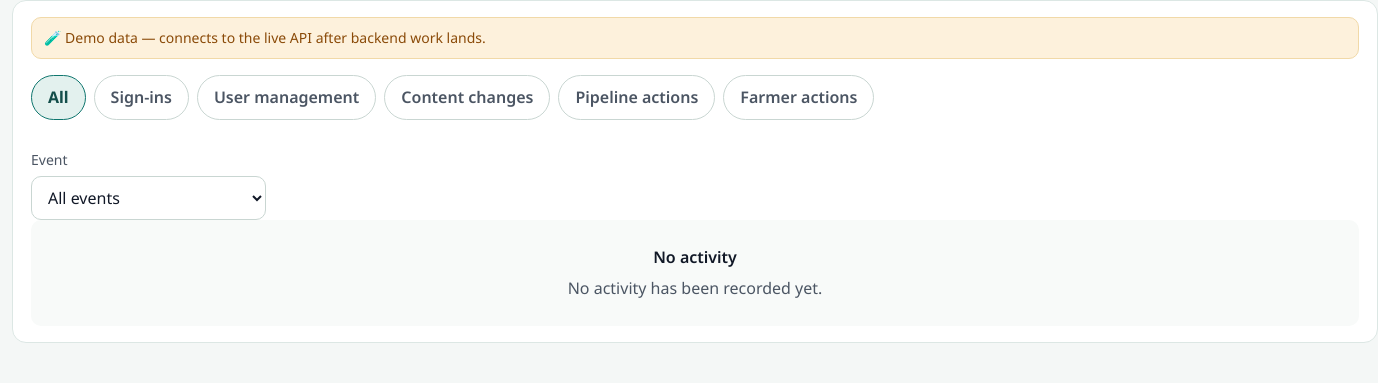
System log — group sub-tabs › distinguishes "nothing recorded" from "nothing matches this filter"
Check: the text "No activity has been recorded yet." is shown, box [568,277,822,299]
Click the tab "Content changes". click: coordinates (467, 97)
box: [384,75,550,120]
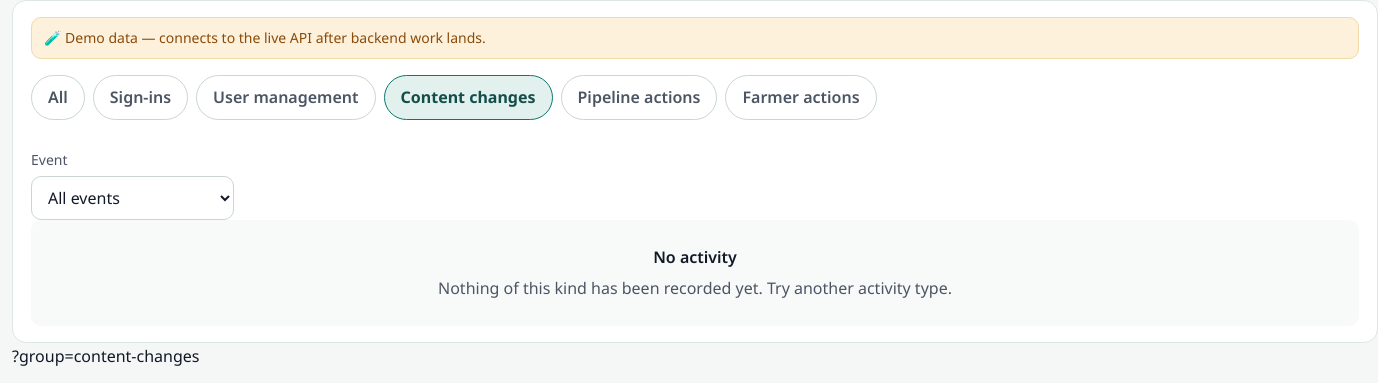
Check: the text "Nothing of this kind has been recorded yet" is shown, box [438,277,952,299]
